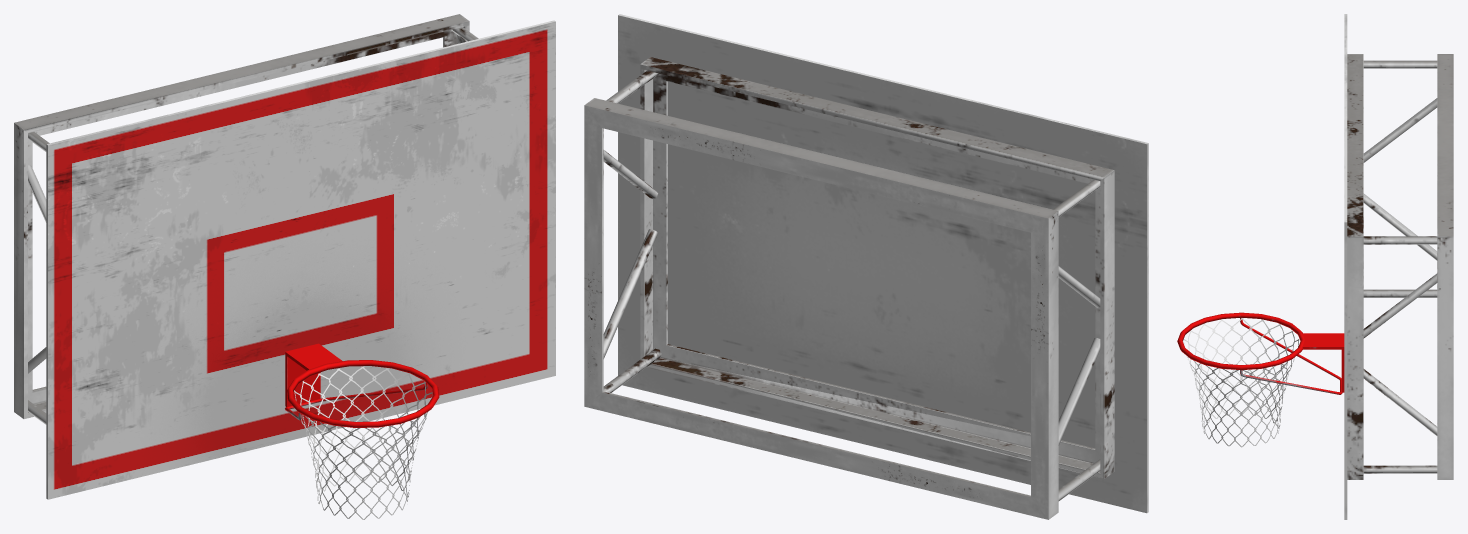
The model's file is mesh_basket_02.FBX.
3 renders of one model, left to right at view 1: azimuth 30°, elevation 25°; view 2: azimuth 150°, elevation 25°; view 3: azimuth 270°, elevation 25°, orthographic. The views are drawn at different scales.
Visible parts, largest first — view 1: mesh_basket_02; view 2: mesh_basket_02; view 3: mesh_basket_02.
Part boxes in pixels (x1,y1,x2,y2): mesh_basket_02: (14,14,555,519); mesh_basket_02: (584,14,1148,519); mesh_basket_02: (1177,14,1453,519).
Bounding box in the file's own units: 1.8 × 1.26 × 1.01.
Materials: 2 (1 with a texture image).
